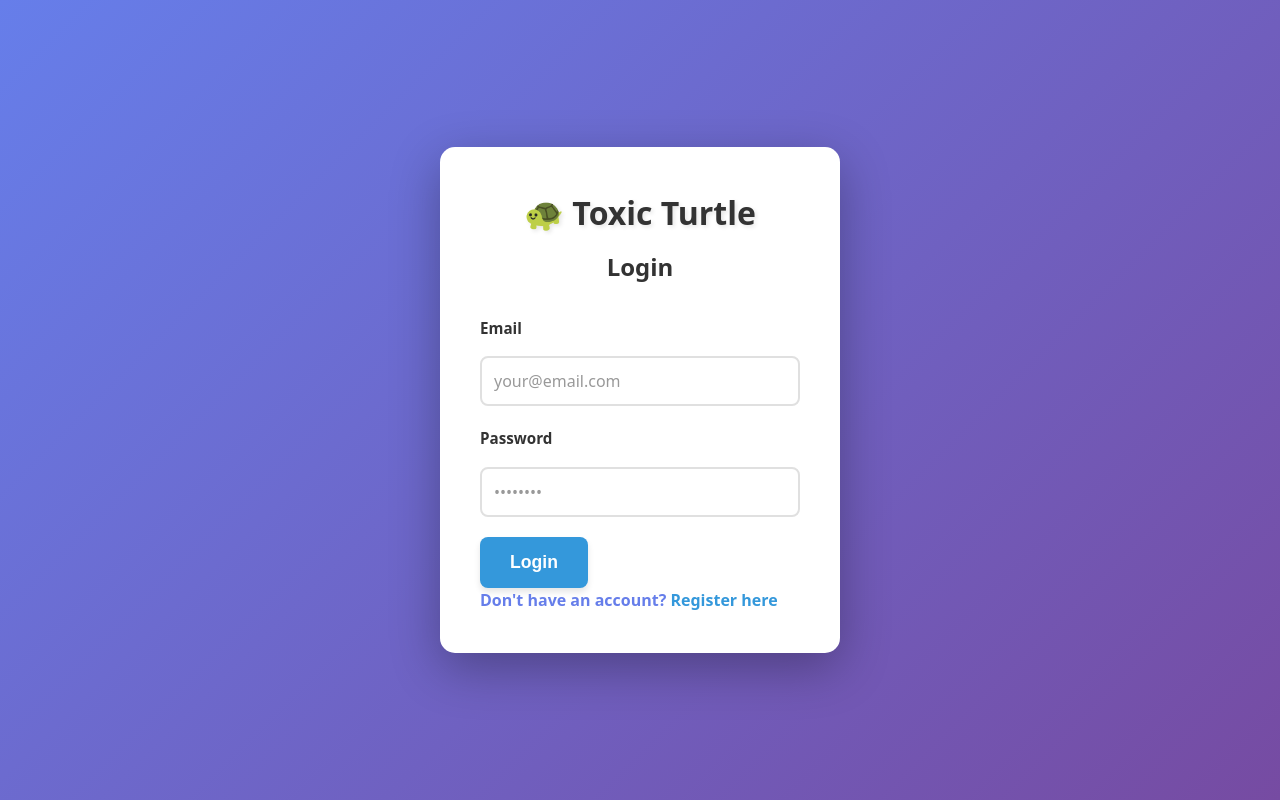
it: LoginPage › should display loading state while submitting
This screenshot has width=1280, height=800.
Step 1. Type "test@example.com" into the field with placeholder "your@email.com" → (640, 382), box left=480, top=356, right=800, bottom=406
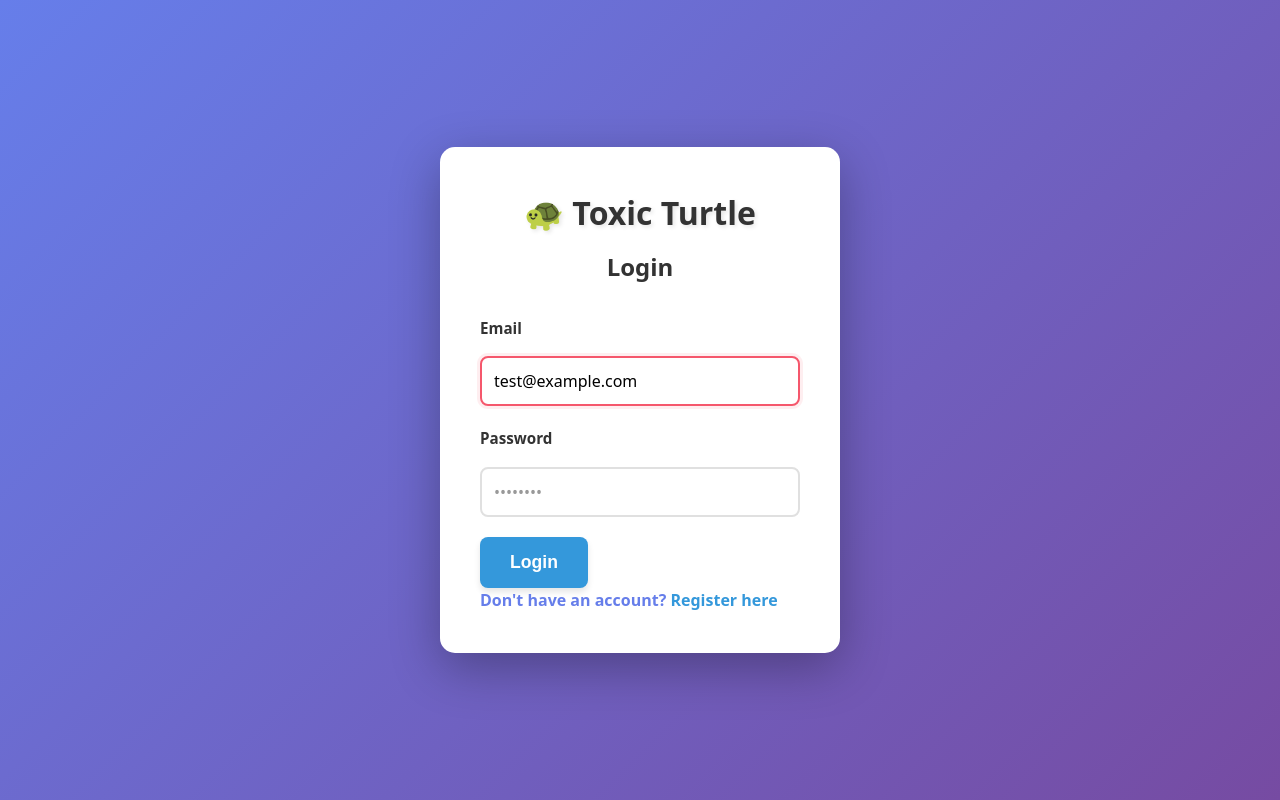
Step 2. Type "password123" into the password field with placeholder "••••••••" → (640, 492), box left=480, top=467, right=800, bottom=517
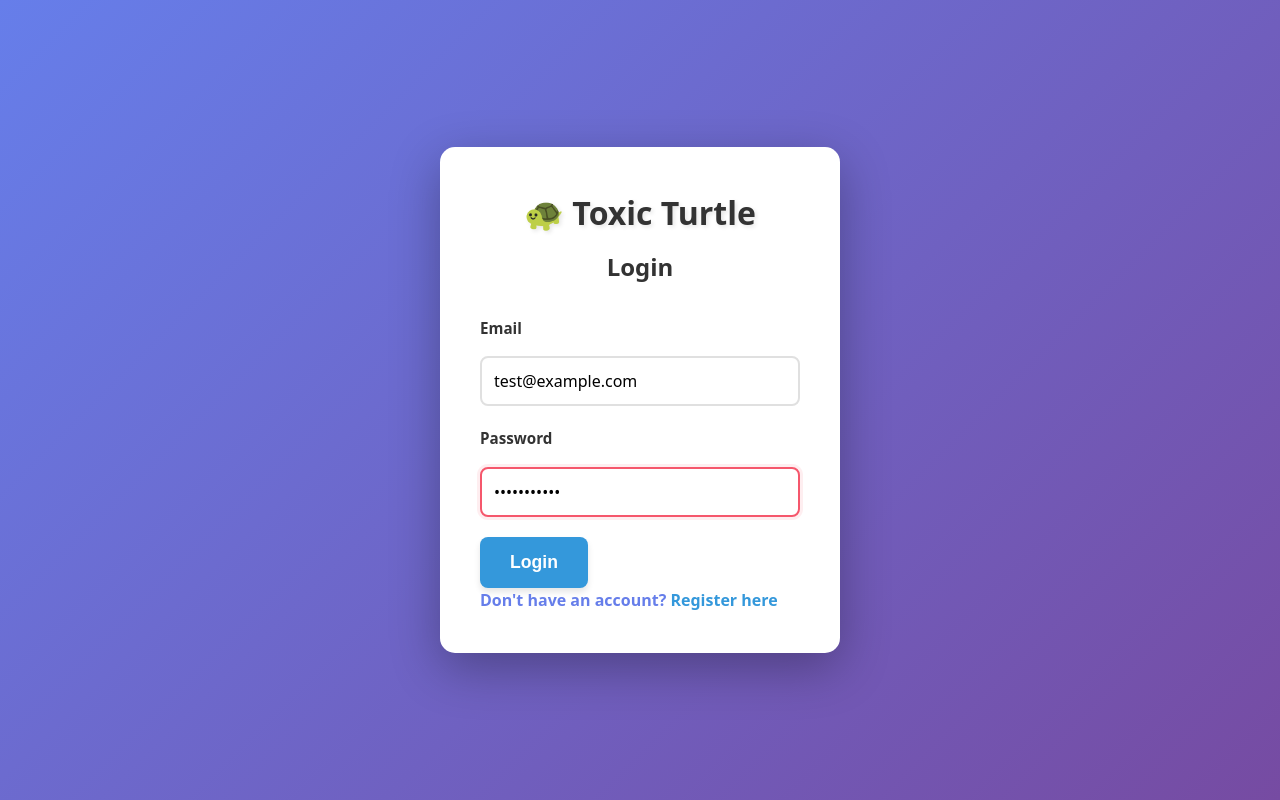
Step 3. Click the button "Login" → (534, 562), box left=480, top=537, right=588, bottom=588
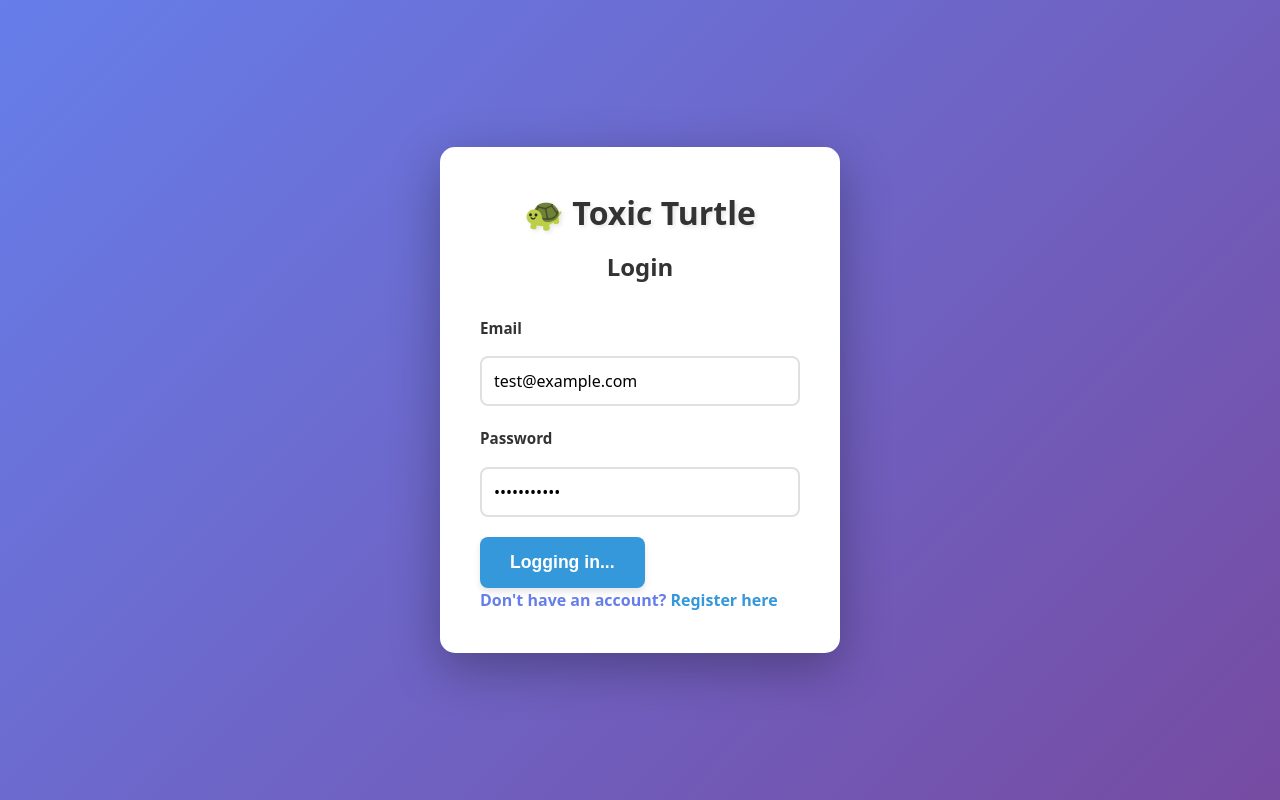
expect the button named "login" is disabled: met, box left=480, top=537, right=645, bottom=588
